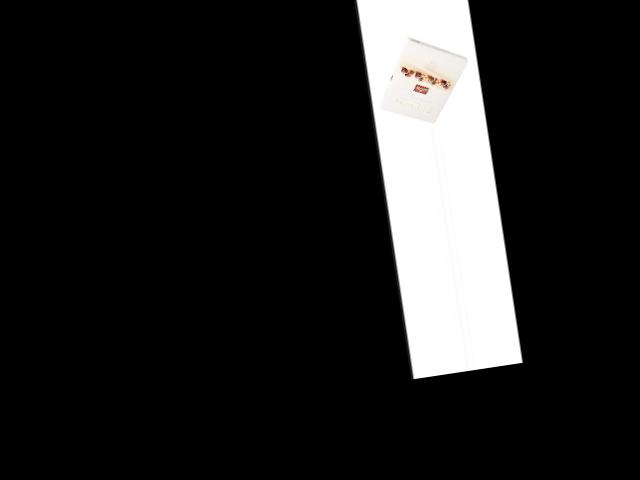chocolate: (370, 26, 483, 129)
